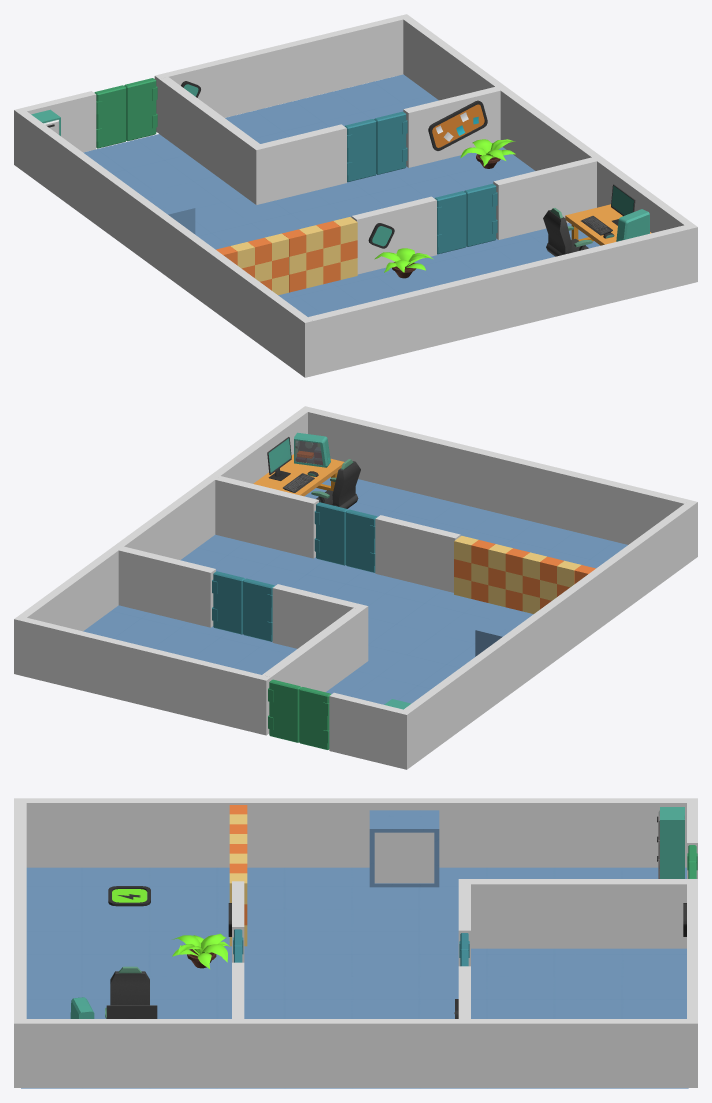
Rendered from maps_08.fbx.
3 renders of one model, top to bottom at view 1: azimuth 30°, elevation 25°; view 2: azimuth 150°, elevation 25°; view 3: azimuth 270°, elevation 25°, orthographic. The views are drawn at different scales.
Visible parts, largest first — view 1: polySurface144, polySurface195, polySurface196, polySurface193, polySurface191, polySurface259, polySurface198, polySurface194, polySurface6 (×3), polySurface2 (×3), polySurface199, polySurface192 (+8 smaller); view 2: polySurface144, polySurface195, polySurface196, polySurface193, polySurface191, polySurface194, polySurface192, polySurface6 (×3), polySurface2 (×3), polySurface199, polySurface259, polySurface197 (+5 smaller); view 3: polySurface144, polySurface191, polySurface196, polySurface259, polySurface195, tu_02_01_geo, wardrobe_geo, tu_02_03_geo, tu_02_02_geo, polySurface193, polySurface257, Imbush_geo2 (+7 smaller).
Part boxes in pixels (<box>): polySurface144: <box>83,74,600,316</box>; polySurface195: <box>308,225,690,375</box>; polySurface196: <box>14,108,313,377</box>; polySurface193: <box>154,16,403,133</box>; polySurface191: <box>399,14,697,283</box>; polySurface259: <box>159,77,259,200</box>; polySurface198: <box>251,124,346,204</box>; polySurface194: <box>493,157,596,239</box>; polySurface6 (×3): <box>124,78,497,246</box>; polySurface2 (×3): <box>94,85,466,254</box>; polySurface199: <box>351,196,436,274</box>; polySurface192: <box>403,87,500,167</box>; polySurface144: <box>83,477,627,704</box>; polySurface195: <box>308,408,689,544</box>; polySurface196: <box>399,500,697,769</box>; polySurface193: <box>22,618,270,735</box>; polySurface191: <box>14,406,312,675</box>; polySurface194: <box>215,476,318,558</box>; polySurface192: <box>118,546,215,627</box>; polySurface6 (×3): <box>212,502,347,742</box>; polySurface2 (×3): <box>243,509,377,749</box>; polySurface199: <box>375,515,460,592</box>; polySurface259: <box>262,608,362,692</box>; polySurface197: <box>329,692,402,767</box>; polySurface144: <box>21,867,688,1088</box>; polySurface191: <box>14,1019,697,1087</box>; polySurface196: <box>14,798,697,867</box>; polySurface259: <box>471,879,686,948</box>; polySurface195: <box>14,803,26,1019</box>; tu_02_01_geo: <box>369,810,439,887</box>; wardrobe_geo: <box>657,807,684,878</box>; tu_02_03_geo: <box>404,832,434,883</box>; tu_02_02_geo: <box>374,832,403,883</box>; polySurface193: <box>687,879,697,1018</box>; polySurface257: <box>105,966,149,1018</box>; Imbush_geo2: <box>172,933,229,968</box>.
Size of the model in its own units: 66.51 by 10.09 by 85.35.
Materials: 12 (11 with a texture image).
